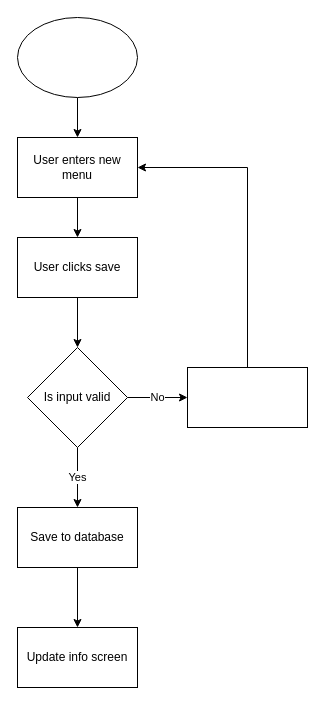
Some shapes in this 325 by 705 pixel diagram are drawn without their labels. Here are the shapes that lost their labels. From the top down, the centre of each, then its label:
(x=77, y=57): Start
(x=247, y=397): Show error
